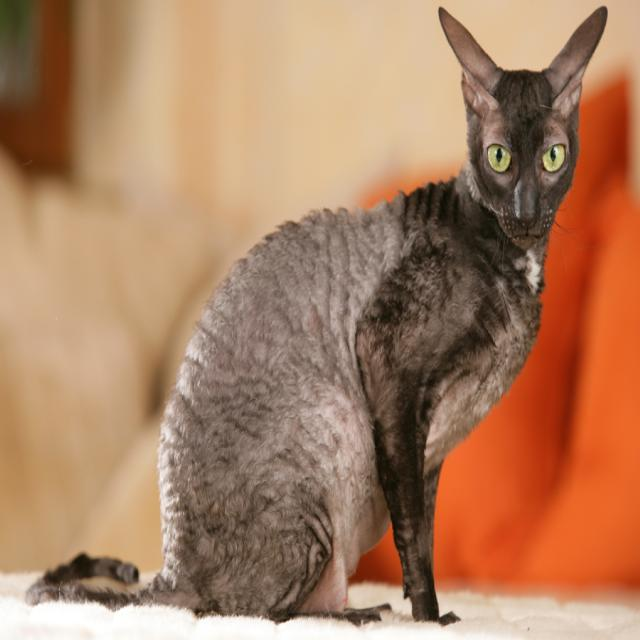Cornish Rex: (17, 0, 612, 631)
